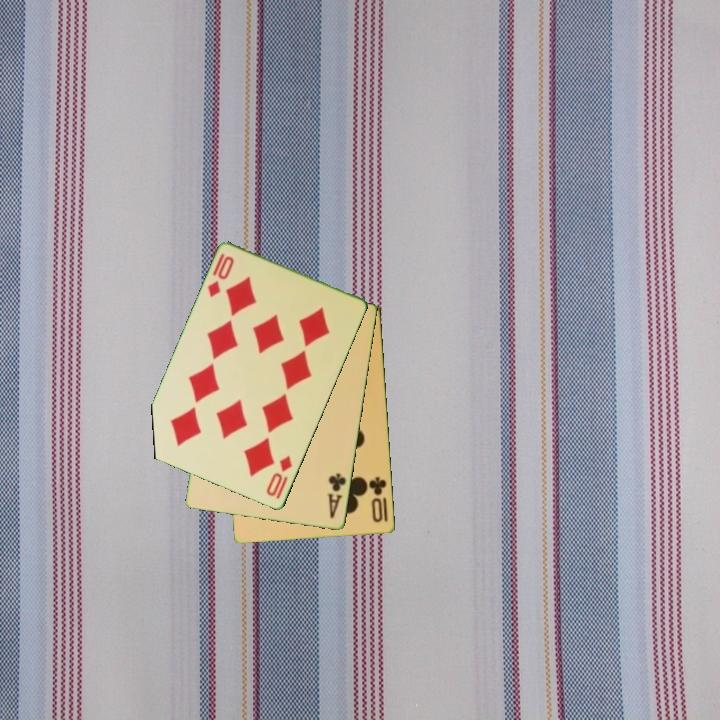10c: (366, 473, 390, 526)
10d: (263, 452, 296, 502), (204, 250, 237, 300)
Ac: (325, 470, 349, 522)
